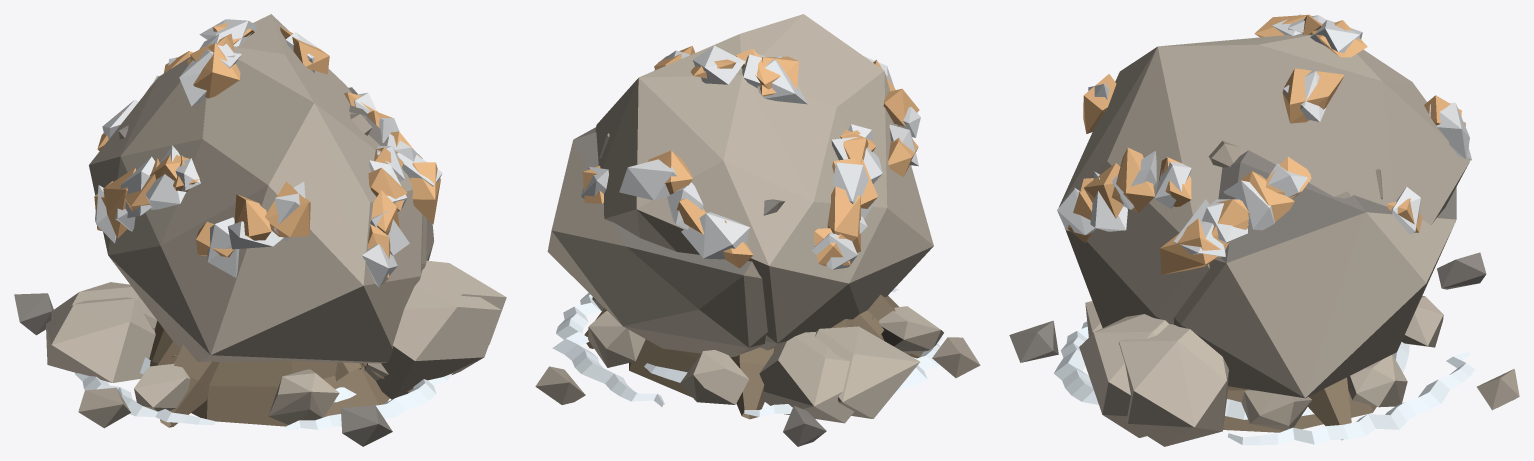
Rendered from props.glb.
3 renders of one model, left to right at view 1: azimuth 30°, elevation 25°; view 2: azimuth 150°, elevation 25°; view 3: azimuth 270°, elevation 25°, orthographic. The views are drawn at different scales.
Parts seen in each view (by area): view 1: ore-rock-tin_Rock, ore-rock-copper_Ore, ore-rock-tin_Ore, ore-rock-copper_Rock, tree-stump_Stump, campfire_Base, ore-rock-depleted_Rubble, ore-rock-depleted_Rock, fishing-ripple_Rings; view 2: ore-rock-copper_Rock, ore-rock-depleted_Rock, ore-rock-tin_Rock, ore-rock-tin_Ore, ore-rock-copper_Ore, campfire_Base, fishing-ripple_Rings, tree-stump_Stump, ore-rock-depleted_Rubble; view 3: ore-rock-depleted_Rock, ore-rock-tin_Rock, ore-rock-copper_Rock, ore-rock-copper_Ore, ore-rock-tin_Ore, fishing-ripple_Rings, campfire_Base, ore-rock-depleted_Rubble, tree-stump_Stump.
Boxes of the visible parts, x1,y1,x2,y2 form: ore-rock-tin_Rock: (48,14,501,399); ore-rock-copper_Ore: (94,22,440,284); ore-rock-tin_Ore: (95,19,442,287); ore-rock-copper_Rock: (46,14,442,364); tree-stump_Stump: (149,321,413,427); campfire_Base: (134,328,388,424); ore-rock-depleted_Rubble: (14,113,392,446); ore-rock-depleted_Rock: (51,87,506,344); fishing-ripple_Rings: (75,357,452,430); ore-rock-copper_Rock: (595,34,932,418); ore-rock-depleted_Rock: (547,127,854,423); ore-rock-tin_Rock: (641,14,933,417); ore-rock-tin_Ore: (581,45,920,269); ore-rock-copper_Ore: (582,46,919,268); campfire_Base: (588,297,943,404); fishing-ripple_Rings: (552,288,942,416); tree-stump_Stump: (584,294,922,419); ore-rock-depleted_Rubble: (535,133,980,446); ore-rock-depleted_Rock: (1118,150,1456,446); ore-rock-tin_Rock: (1059,34,1381,437); ore-rock-copper_Rock: (1109,35,1469,437); ore-rock-copper_Ore: (1067,14,1465,274); ore-rock-tin_Ore: (1057,14,1471,257); fishing-ripple_Rings: (1054,310,1474,445); campfire_Base: (1085,295,1443,430); ore-rock-depleted_Rubble: (1009,140,1519,410); tree-stump_Stump: (1223,377,1376,440).
Size of the model in its own units: 1.2 by 0.9137 by 1.2.
